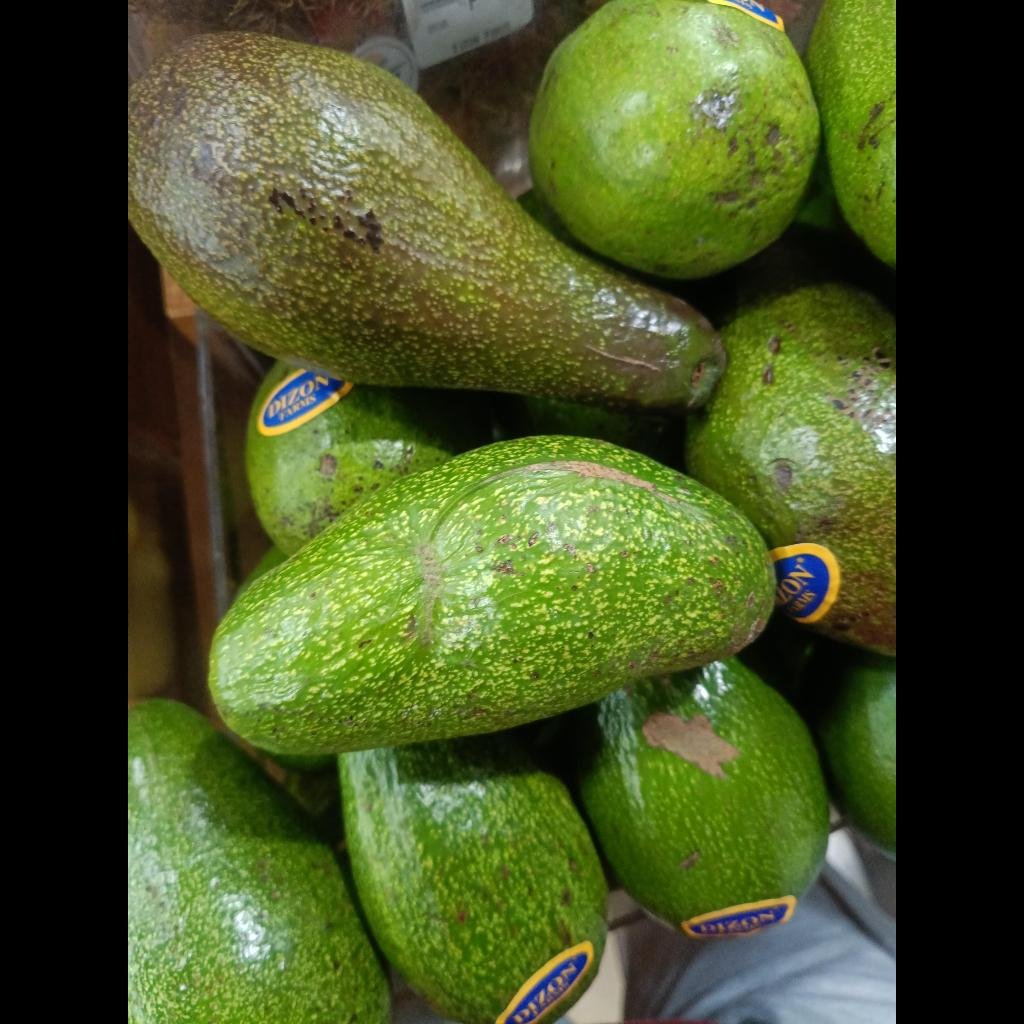healthy: (209, 436, 774, 753)
